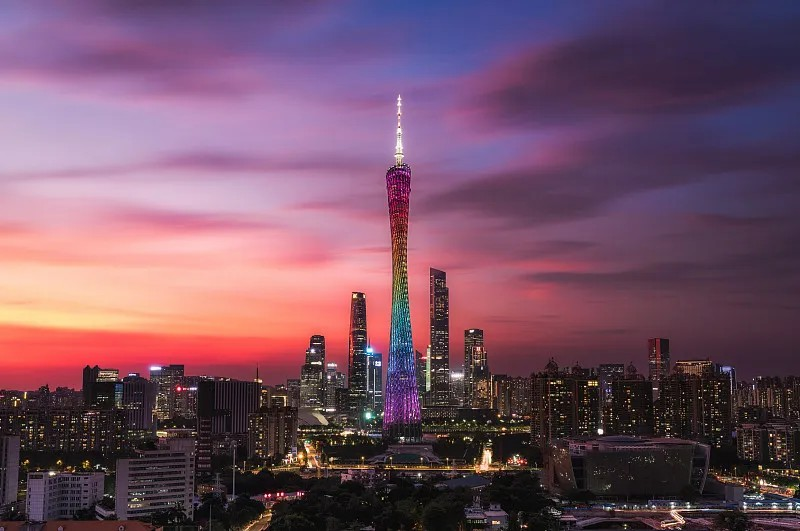Canton: (385, 92, 421, 428)
